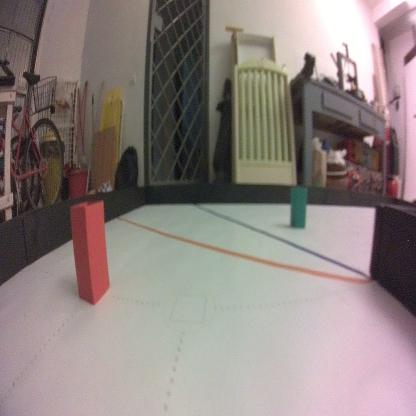green: (287, 182, 306, 230)
red: (70, 195, 111, 308)
